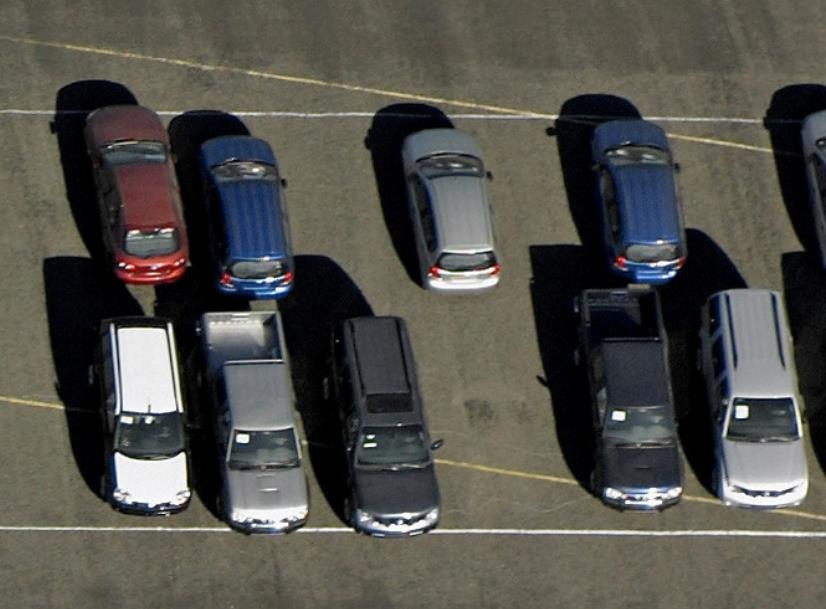car: (568, 284, 694, 513), (319, 314, 447, 539), (189, 308, 314, 538), (692, 284, 811, 510), (87, 317, 196, 515), (79, 100, 194, 286), (399, 126, 502, 293), (588, 115, 689, 285), (197, 136, 297, 299)
